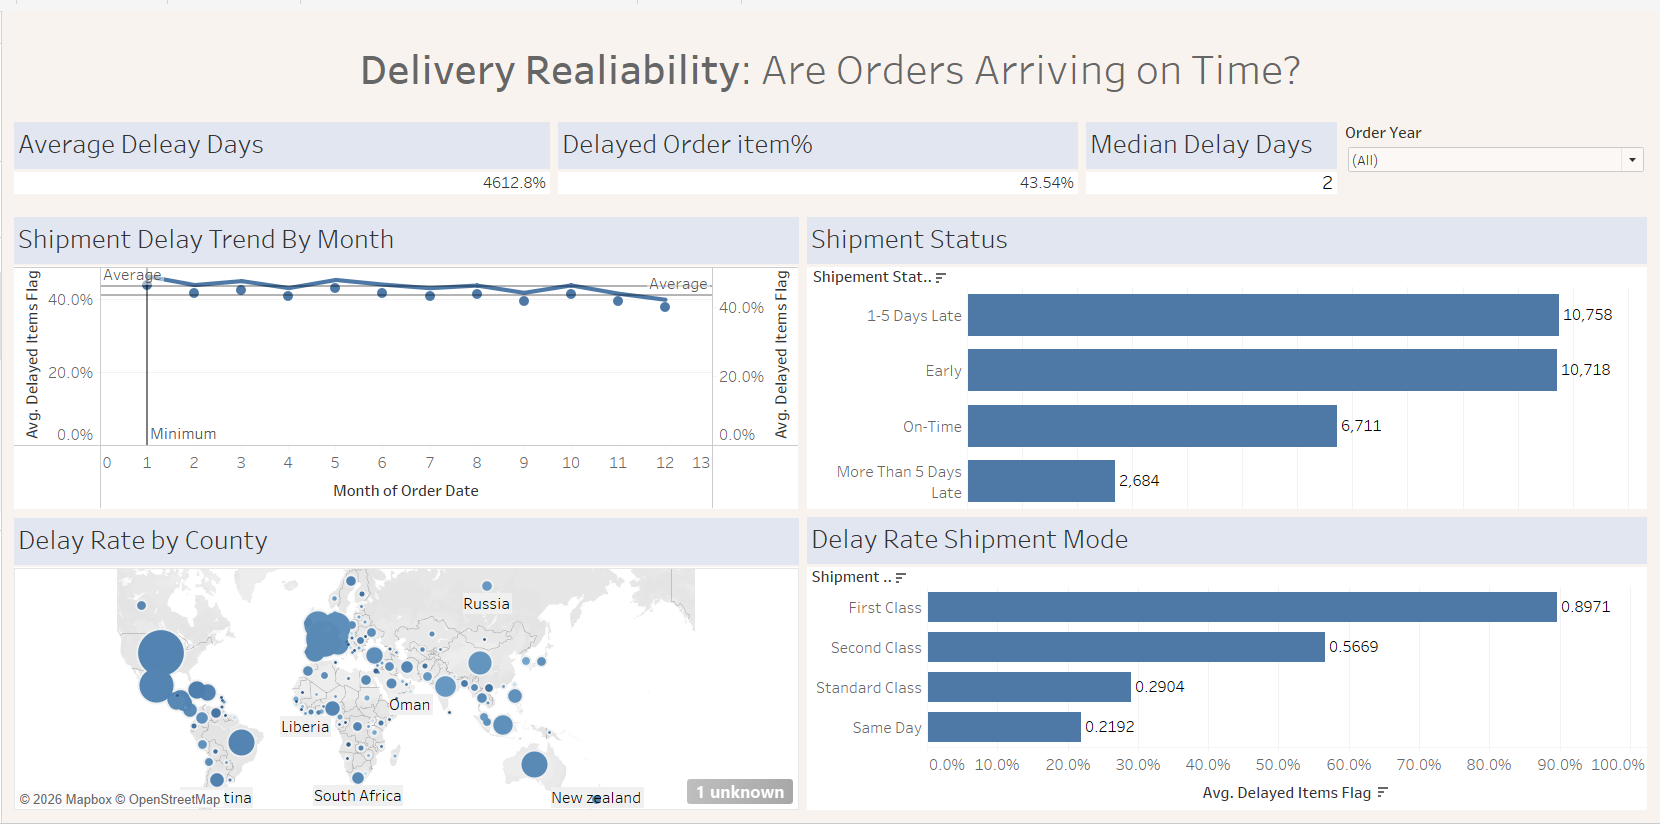

What the dashboard file says about the page in this screenshot:
{"tool":"tableau","page":{"name":"Shipment Performance","canvas":[1000,1000],"units":"permille","ordinal":1},"visuals":[{"type":"text","box":[4.8,10,990.4,122.3]},{"type":"worksheet","title":"Average Deleay Days","mark":"Automatic","box":[4.8,132.3,328.3,117.4]},{"type":"worksheet","title":"Delayed Order item%","mark":"Automatic","box":[333.1,132.3,318.7,117.4]},{"type":"worksheet","title":"Median Delay Days","mark":"Automatic","box":[651.8,132.3,156.3,117.4]},{"type":"filter","title":"Shipment Delay Trend By Month","param":"[federated.1m90vc510br5b71bjo0t40io5idu].[none:Order Year :ok]","box":[808.1,132.3,187.1,76.2]},{"type":"worksheet","title":"Shipment Delay Trend By Month","mark":"Automatic","rows":["Calculation_1097752462609874944","Calculation_1097752462609874944"],"cols":["Calculation_1360368615548780544"],"box":[4.8,249.7,478.3,370.2]},{"type":"worksheet","title":"Shipment Status","mark":"Automatic","rows":["Calculation_1360368615552237572"],"cols":["Order ID "],"box":[483.2,249.7,512,369.6]},{"type":"worksheet","title":"Delay Rate Shipment Mode","mark":"Automatic","rows":["Shipment Mode"],"cols":["Calculation_1097752462609874944"],"box":[483.2,619.2,512,370.8]},{"type":"worksheet","title":"Delay Rate by County","mark":"Automatic","box":[4.8,619.8,478.3,370.2]}]}

Visuals, with their boxes on the dashboard's canvas, which has no fixed pixel size, in thousandths of its width and height (x1, y1, x2, y2). These are canvas units, not pixel positions in the 1660x824 screenshot, which may show the page scaled, cropped or inside an application window:
text: <box>5,10,995,132</box>
"Average Deleay Days" worksheet: <box>5,132,333,250</box>
"Delayed Order item%" worksheet: <box>333,132,652,250</box>
"Median Delay Days" worksheet: <box>652,132,808,250</box>
"Shipment Delay Trend By Month" filter: <box>808,132,995,208</box>
"Shipment Delay Trend By Month" worksheet: <box>5,250,483,620</box>
"Shipment Status" worksheet: <box>483,250,995,619</box>
"Delay Rate Shipment Mode" worksheet: <box>483,619,995,990</box>
"Delay Rate by County" worksheet: <box>5,620,483,990</box>
